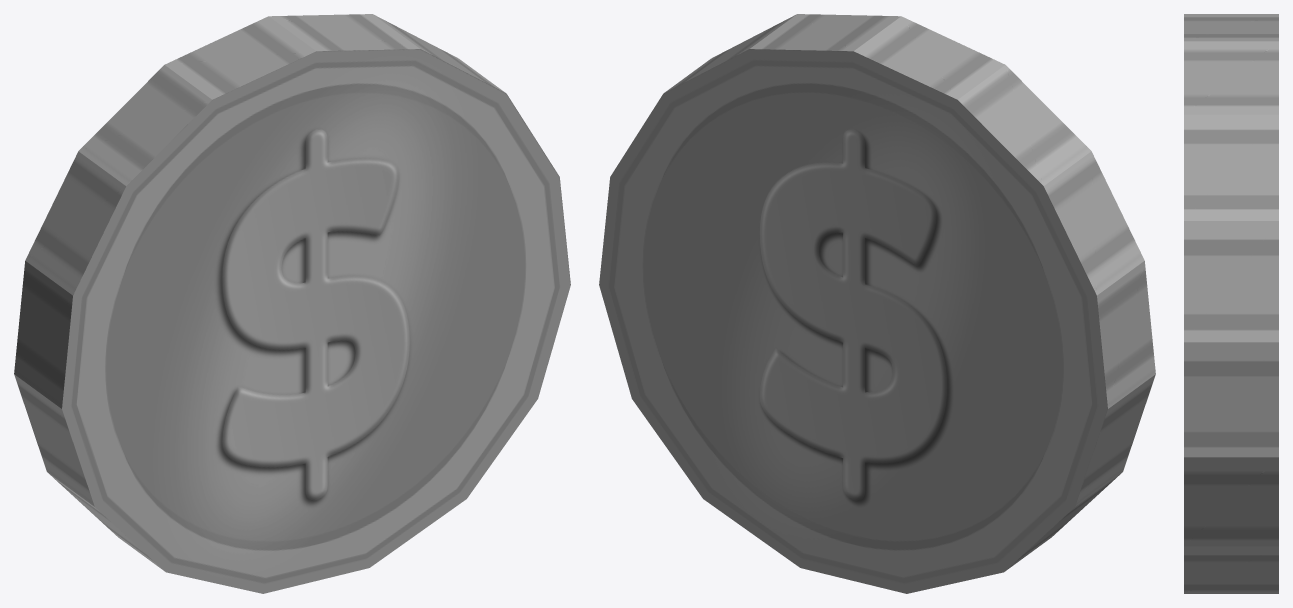
The model's file is gumuspara.fbx.
The picture shows the model from 3 angles, left to right: view 1: azimuth 30°, elevation 25°; view 2: azimuth 150°, elevation 25°; view 3: azimuth 270°, elevation 25°; orthographic projection.
Parts seen in each view (by area): view 1: gumuspara; view 2: gumuspara; view 3: gumuspara.
Boxes of the visible parts, x1,y1,x2,y2 form: gumuspara: (14,14,570,593); gumuspara: (599,14,1155,593); gumuspara: (1184,14,1278,593).
Bounding box in the file's own units: 6.19 × 6.15 × 1.01.
1 material, 1 textured.
